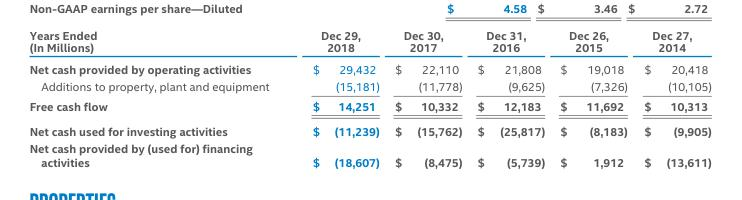table: (28, 28, 710, 168)
table column: (28, 28, 290, 168), (290, 28, 386, 168), (551, 28, 635, 168), (386, 28, 469, 168), (469, 28, 551, 168), (635, 28, 710, 168)
table column header: (28, 28, 710, 58)
table row: (28, 28, 710, 58), (28, 139, 710, 168), (28, 96, 710, 118), (28, 118, 710, 139), (28, 58, 710, 78), (28, 78, 710, 96)
